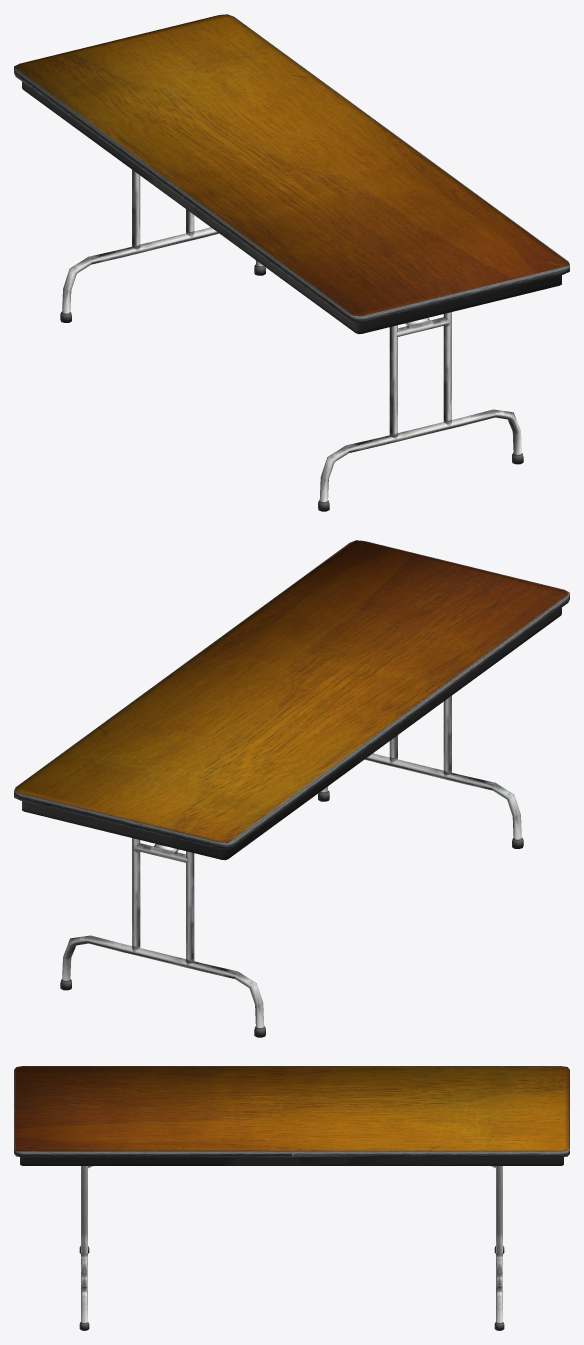
Rendered from table.obj.
3 renders of one model, top to bottom at view 1: azimuth 30°, elevation 25°; view 2: azimuth 150°, elevation 25°; view 3: azimuth 270°, elevation 25°, orthographic. The views are drawn at different scales.
Visible parts, largest first — view 1: table_Mesh.004; view 2: table_Mesh.004; view 3: table_Mesh.004.
Boxes of the visible parts, box(x1,y1,x2,y2) form: table_Mesh.004: box(14, 14, 569, 511); table_Mesh.004: box(14, 540, 569, 1037); table_Mesh.004: box(14, 1066, 569, 1330).
Bounding box in the file's own units: 0.8542 × 0.8431 × 2.34.
